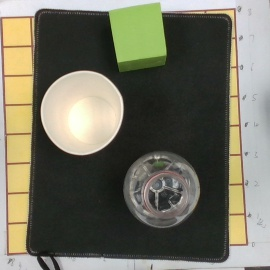bottle: (123, 153, 199, 227)
cup: (41, 71, 123, 157)
